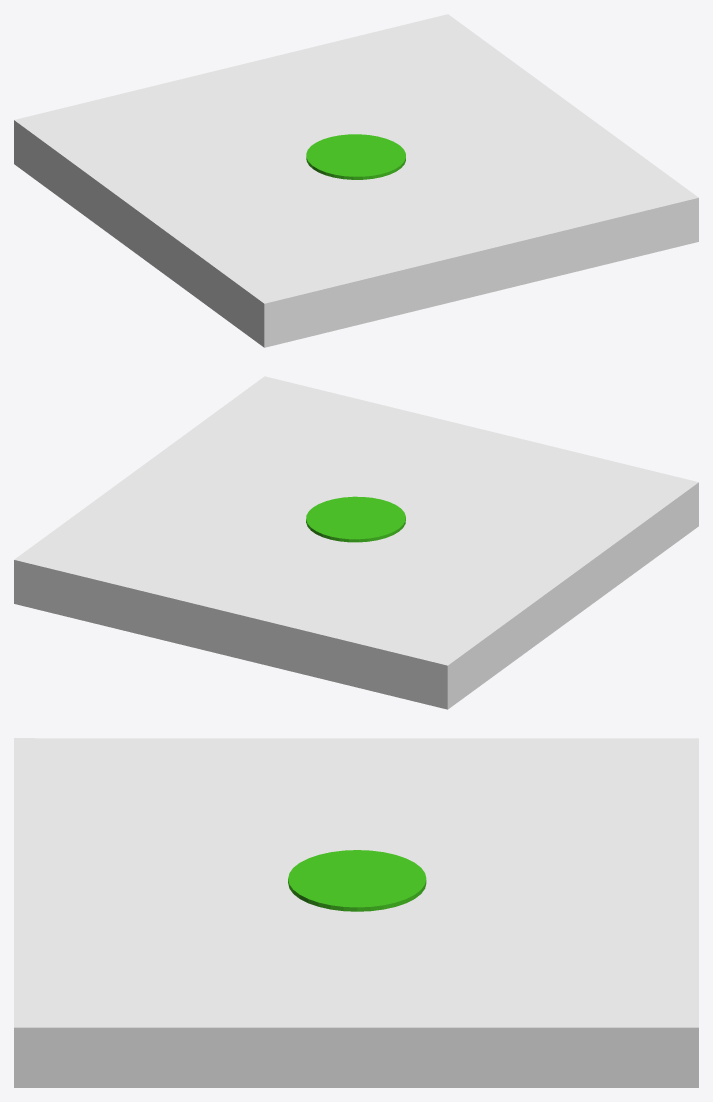
File: platfotm_t.dae
3 renders of one model, top to bottom at view 1: azimuth 30°, elevation 25°; view 2: azimuth 150°, elevation 25°; view 3: azimuth 270°, elevation 25°, orthographic. The views are drawn at different scales.
Visible parts, largest first — view 1: Platform.001; view 2: Platform.001; view 3: Platform.001.
Boxes of the visible parts, x1=… form: Platform.001: x1=14, y1=14, x2=698, y2=347; Platform.001: x1=14, y1=376, x2=698, y2=709; Platform.001: x1=14, y1=738, x2=698, y2=1087.
Bounding box in the file's own units: 1 × 1 × 0.1039.
1 material, 1 textured.
